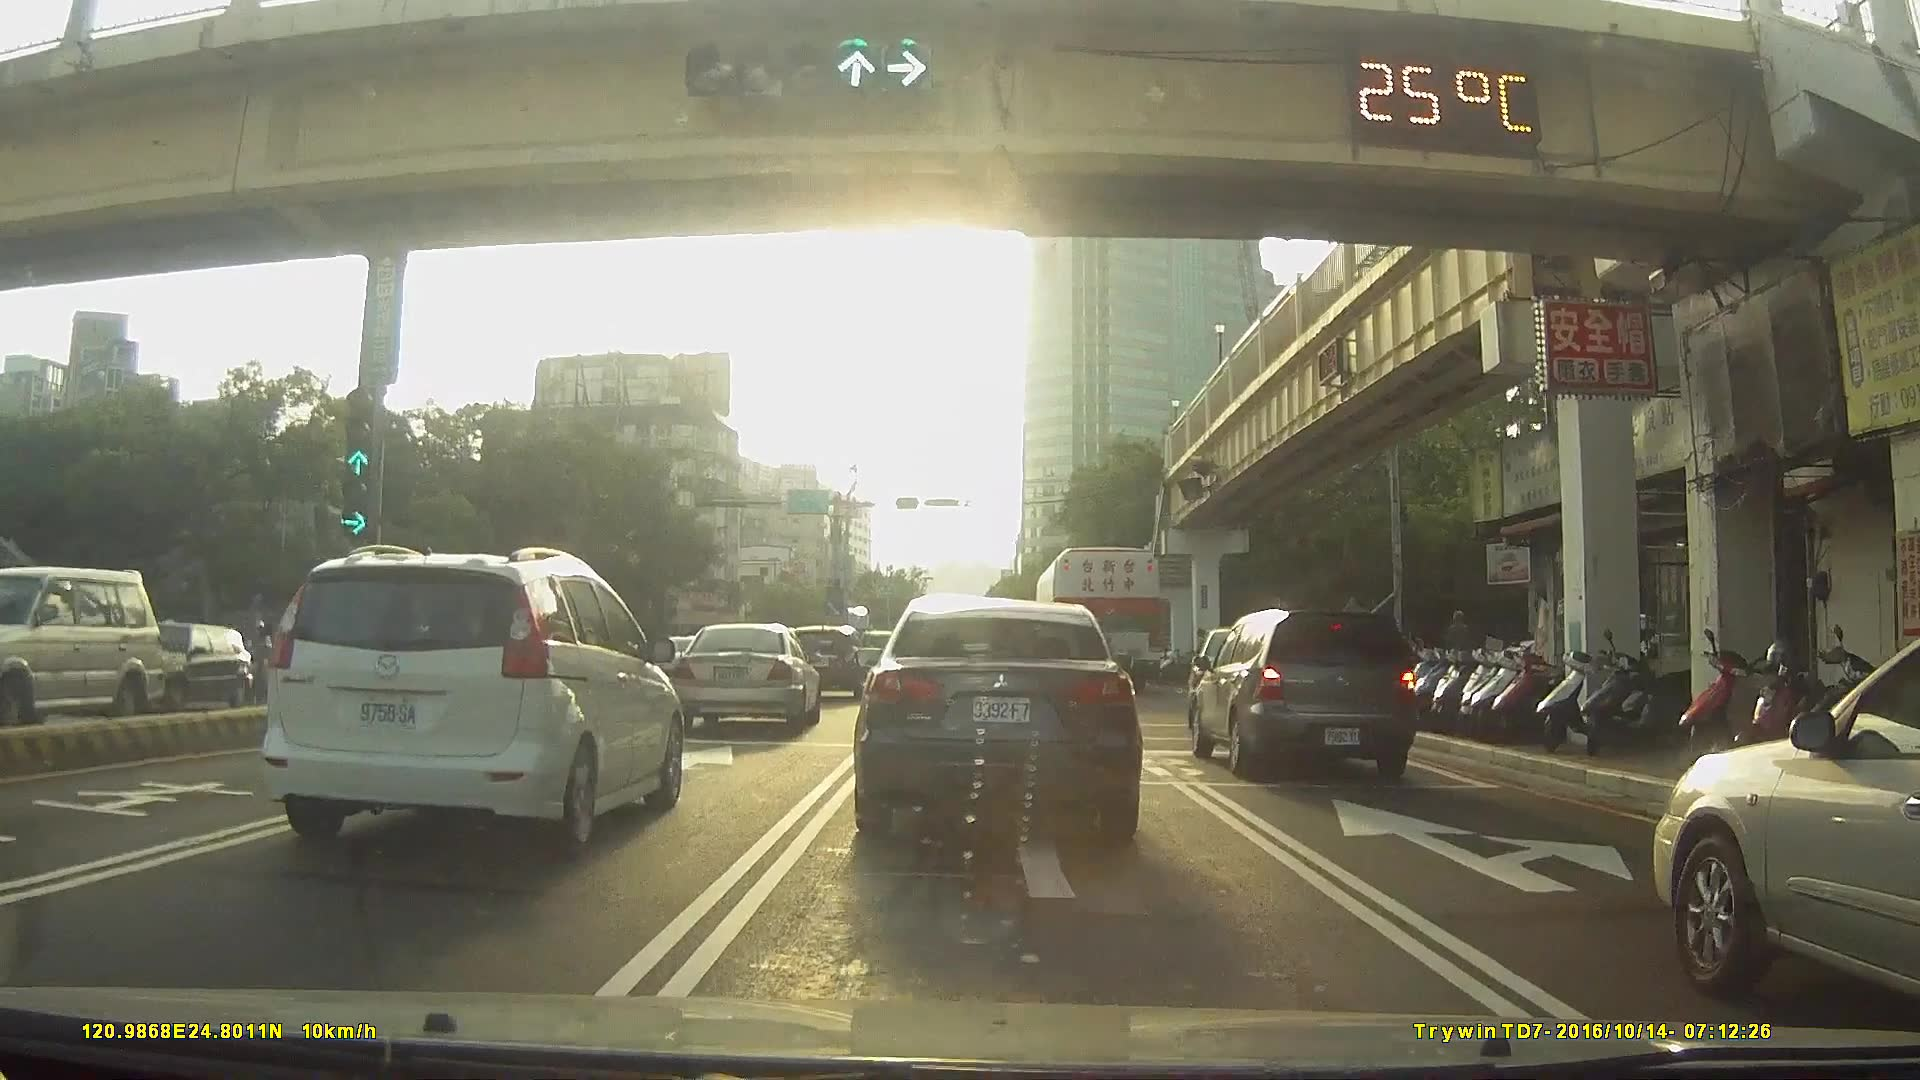pedestrian: (1194, 626, 1214, 669)
vehicle: (261, 539, 687, 853), (1646, 633, 1920, 1003), (851, 590, 1140, 847), (1192, 603, 1419, 779), (2, 556, 198, 728), (1032, 542, 1163, 690), (672, 616, 819, 728), (127, 619, 262, 716), (1185, 620, 1302, 718), (779, 622, 864, 697), (642, 633, 700, 682)
